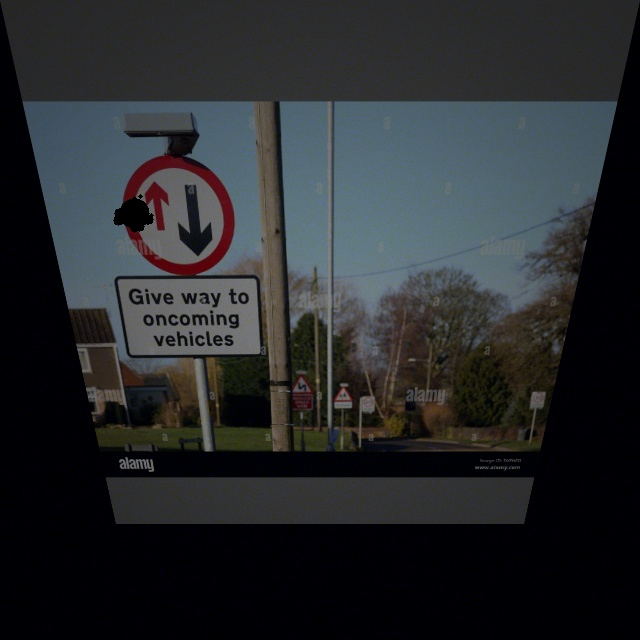Priority_for_Oncoming_Traffic: (114, 156, 238, 274)
